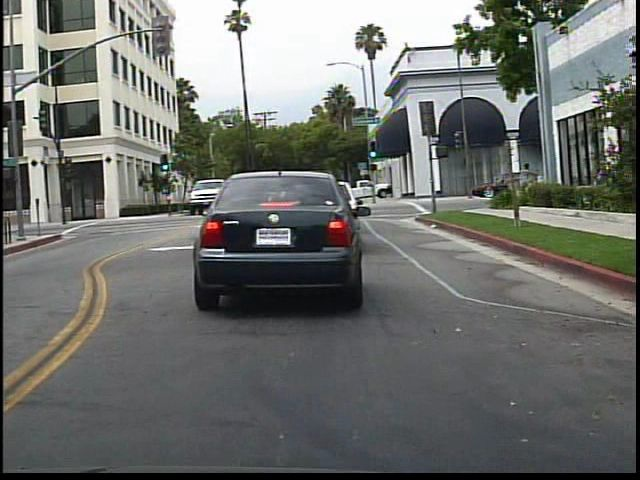person: (509, 159, 538, 207)
